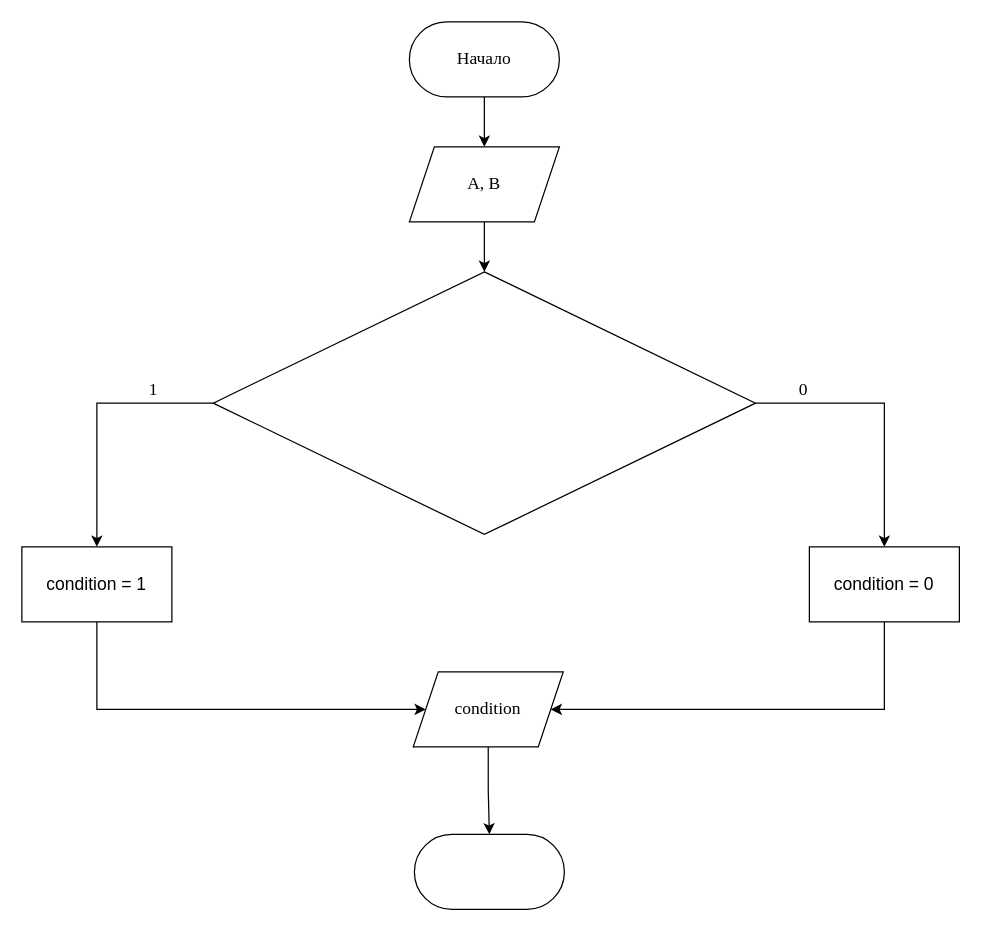
Image size: 981x931. Some labels were removed from this diagram. The shapes that lost their labels are listed below. From the top down, each one's box as (x1, y1, x2, y2) in pixels, then its label:
(212, 271, 756, 534): (A % 2 == 0 && B % 2 != 0) || (A % 2 != 0 && B % 2 == 0)
(413, 833, 564, 909): Конец
